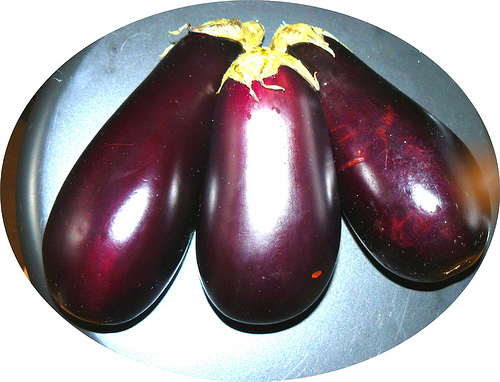eggplant: (37, 11, 268, 341), (267, 7, 492, 287), (191, 39, 348, 336)
